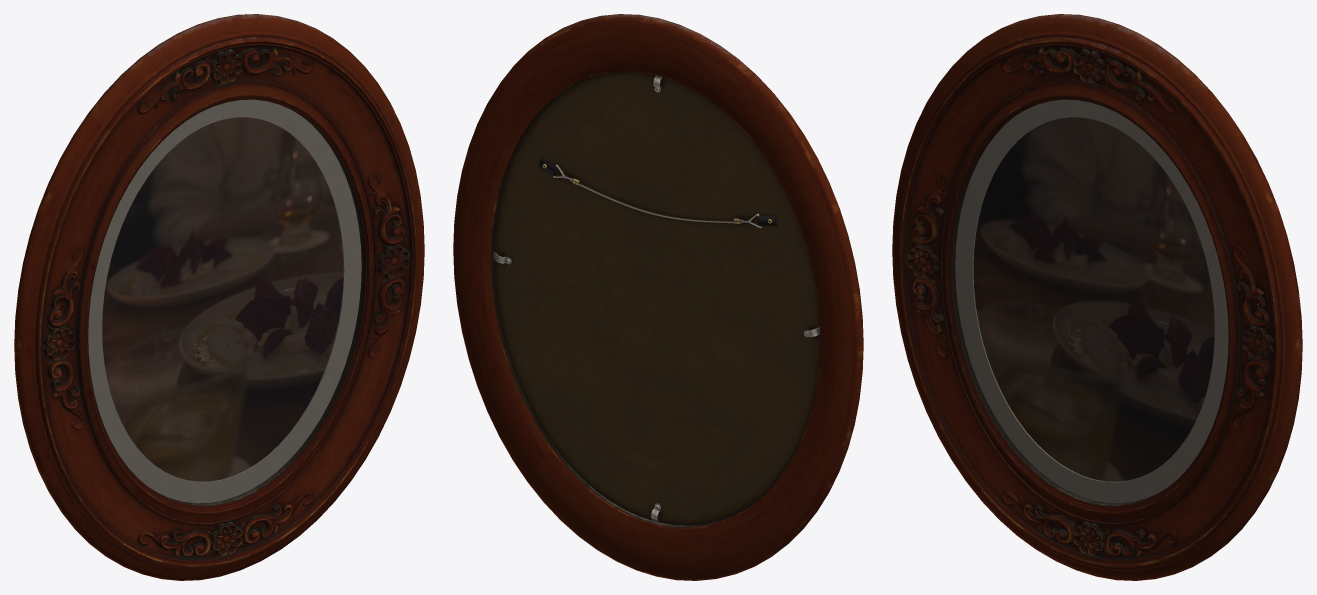
Rendered from frame_side2.glb.
3 views of the same model, side by side, from view 1: azimuth 30°, elevation 25°; view 2: azimuth 150°, elevation 25°; view 3: azimuth 330°, elevation 25° (orthographic).
Visible parts, largest first — view 1: hanging_picture_frame_03, hanging_picture_frame_03_glass; view 2: hanging_picture_frame_03; view 3: hanging_picture_frame_03, hanging_picture_frame_03_glass.
Boxes of the visible parts, x1,y1,x2,y2 form: hanging_picture_frame_03: (14,14,424,580); hanging_picture_frame_03_glass: (88,100,363,504); hanging_picture_frame_03: (453,14,863,580); hanging_picture_frame_03: (892,14,1302,580); hanging_picture_frame_03_glass: (953,100,1228,504).
Bounding box in the file's own units: 0.385 × 0.5024 × 0.0318.
3 materials, 2 textured.
